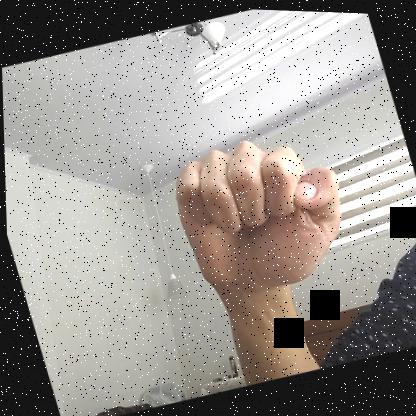A: (157, 109, 364, 306)
